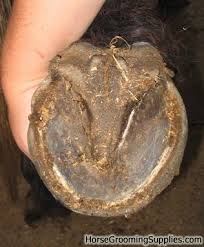horsesole: (27, 64, 189, 216)
